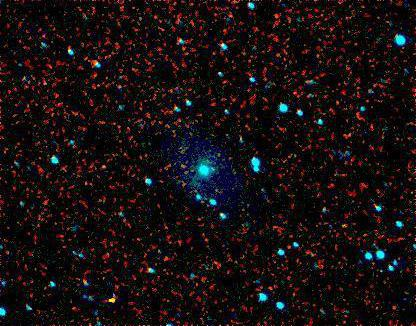star: (96, 283, 126, 313)
